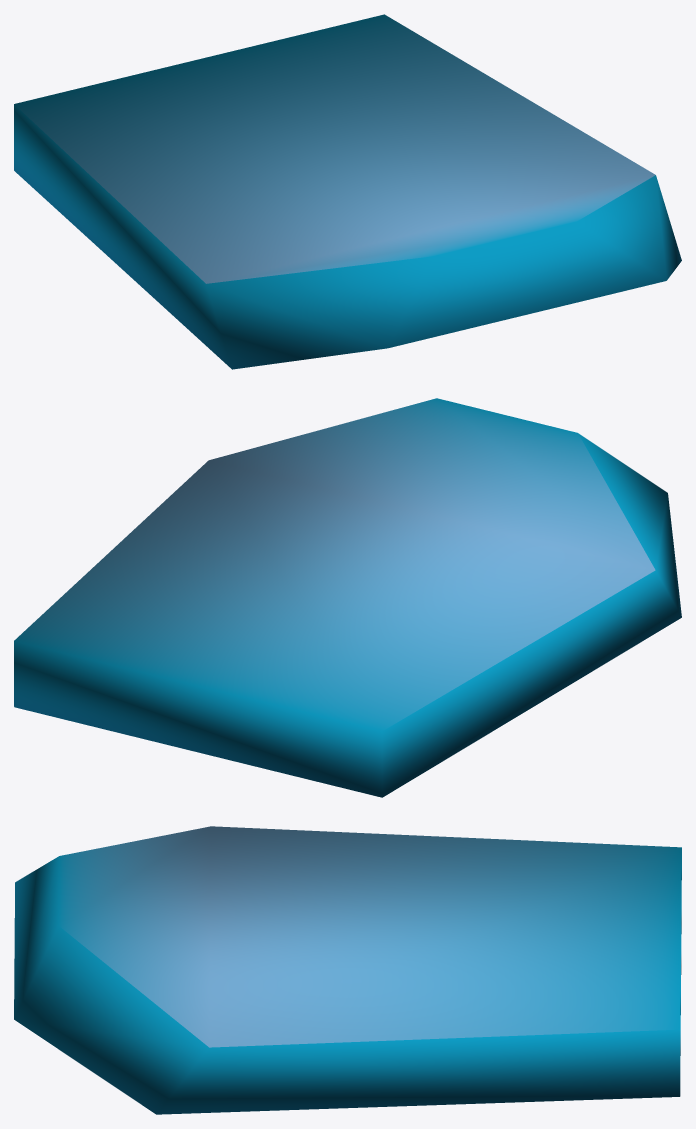
The model's file is hqgc.hrc.gltf.
3 views of the same model, one above another, from view 1: azimuth 30°, elevation 25°; view 2: azimuth 150°, elevation 25°; view 3: azimuth 270°, elevation 25° (orthographic).
Parts seen in each view (by area): view 1: hqgcBone0_null; view 2: hqgcBone0_null; view 3: hqgcBone0_null.
Part boxes in pixels (x1=…): hqgcBone0_null: x1=14, y1=14, x2=681, y2=369; hqgcBone0_null: x1=14, y1=398, x2=681, y2=797; hqgcBone0_null: x1=14, y1=826, x2=681, y2=1114.
Size of the model in its own units: 11.98 by 2.87 by 15.28.
